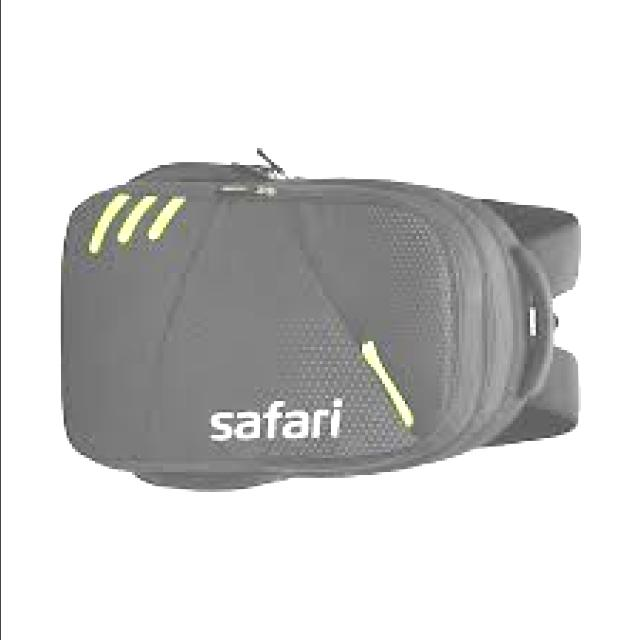backpack: (61, 149, 587, 493)
